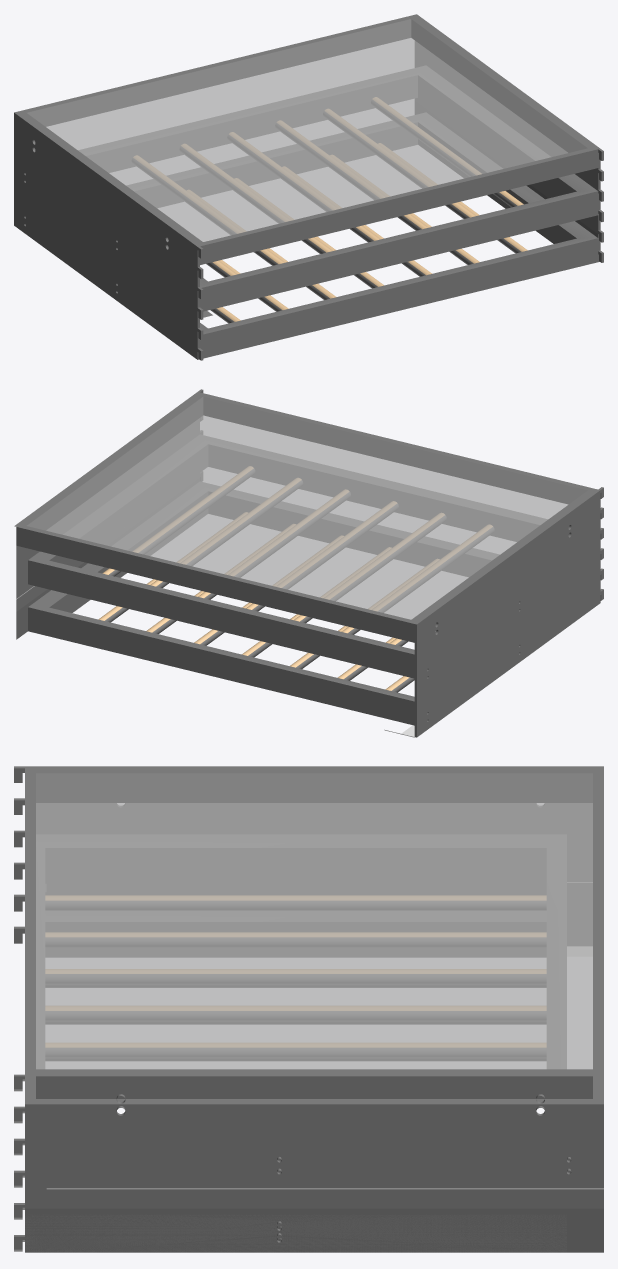
3 renders of one model, top to bottom at view 1: azimuth 30°, elevation 25°; view 2: azimuth 150°, elevation 25°; view 3: azimuth 270°, elevation 25°, orthographic. The views are drawn at different scales.
Parts seen in each view (by area): view 1: Geom3D (×7); view 2: Geom3D (×7); view 3: Geom3D (×7).
Part boxes in pixels (x1=…): Geom3D (×7): x1=14, y1=14, x2=603, y2=360; Geom3D (×7): x1=14, y1=389, x2=603, y2=737; Geom3D (×7): x1=14, y1=766, x2=603, y2=1252.
Bounding box in the file's own units: 0.6712 × 0.181 × 0.54.
